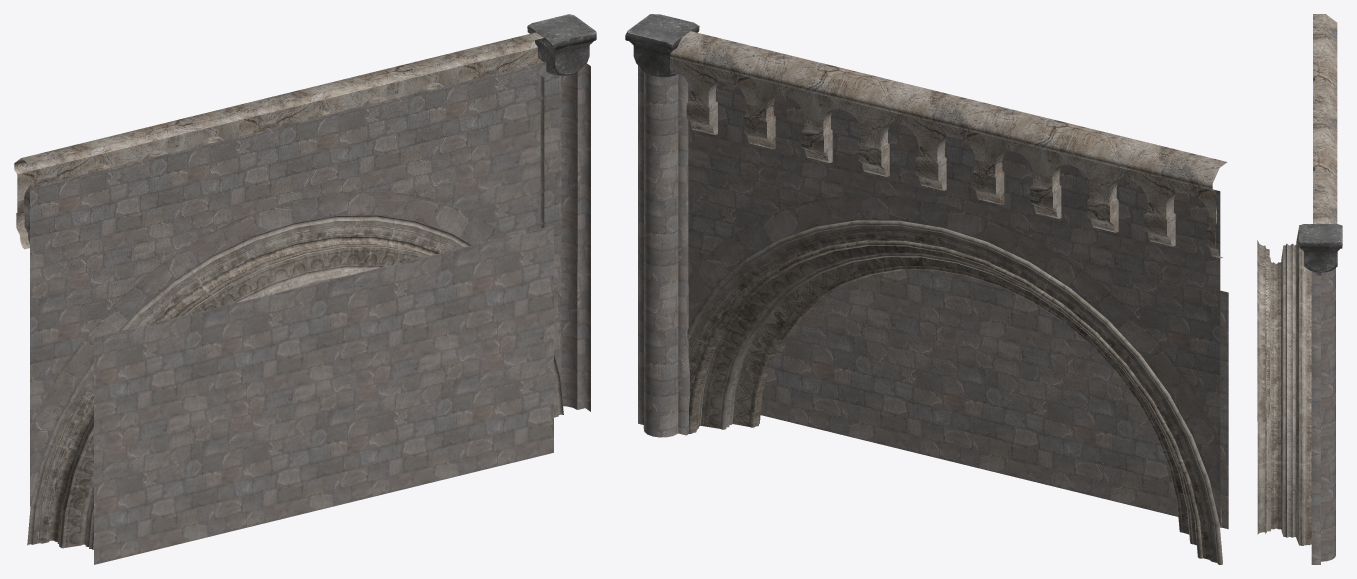
3 renders of one model, left to right at view 1: azimuth 30°, elevation 25°; view 2: azimuth 150°, elevation 25°; view 3: azimuth 270°, elevation 25°, orthographic. The views are drawn at different scales.
Parts seen in each view (by area): view 1: SM_ArcadeCeiling_v1_LOD0; view 2: SM_ArcadeCeiling_v1_LOD0; view 3: SM_ArcadeCeiling_v1_LOD0.
Boxes of the visible parts, left/top/right/bottom form: SM_ArcadeCeiling_v1_LOD0: left=14, top=14, right=596, bottom=564; SM_ArcadeCeiling_v1_LOD0: left=625, top=14, right=1228, bottom=564; SM_ArcadeCeiling_v1_LOD0: left=1257, top=14, right=1342, bottom=564.
Bounding box in the file's own units: 9.39 × 6.16 × 1.47.
4 materials, 4 textured.
